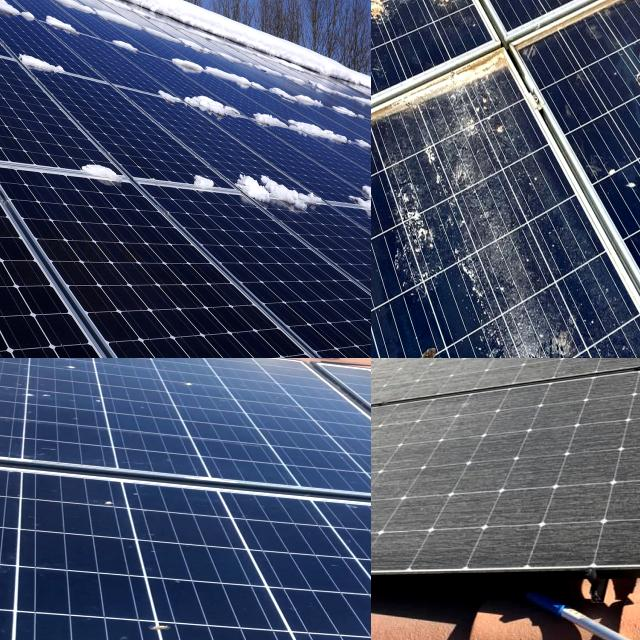bird: (384, 168, 444, 296), (508, 257, 568, 358), (458, 88, 509, 196), (515, 0, 602, 42), (408, 313, 479, 358), (371, 0, 413, 61), (456, 0, 495, 59), (415, 0, 468, 43), (371, 0, 389, 120), (607, 53, 640, 115), (371, 154, 393, 244), (371, 310, 407, 358), (371, 35, 390, 117), (549, 0, 603, 23), (371, 0, 400, 38), (371, 0, 395, 38)
dust: (468, 359, 640, 560), (371, 390, 490, 563), (372, 358, 513, 423), (539, 358, 640, 428), (566, 358, 640, 415), (450, 358, 520, 389)
panel: (249, 108, 371, 156), (228, 156, 324, 214), (162, 0, 245, 63), (171, 54, 270, 106), (70, 150, 146, 200), (144, 85, 242, 123), (39, 0, 147, 33), (0, 111, 37, 187), (280, 70, 338, 116), (0, 101, 39, 169), (12, 35, 68, 77), (0, 10, 45, 59), (45, 0, 92, 45), (0, 0, 43, 37), (186, 146, 206, 210), (109, 28, 146, 62), (0, 0, 41, 26), (350, 176, 371, 220), (0, 0, 29, 31), (354, 84, 371, 129), (0, 0, 30, 23), (0, 0, 27, 23)
